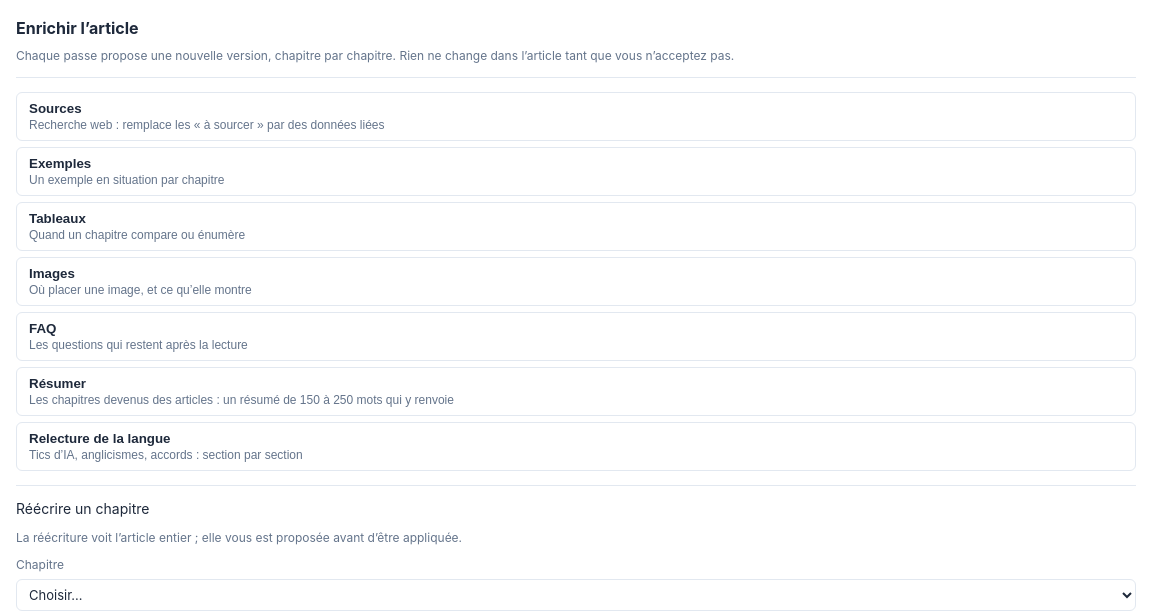
Test: EnrichmentPanel › rien à sourcer : le panneau le dit au lieu d’appeler l’IA
This screenshot has width=1152, height=615.
What coordinates should you click on to do the following:
click the button with test id "enrich-pass-sources"
I would click on:
 (55, 108)
Its box is [16, 92, 1136, 141].
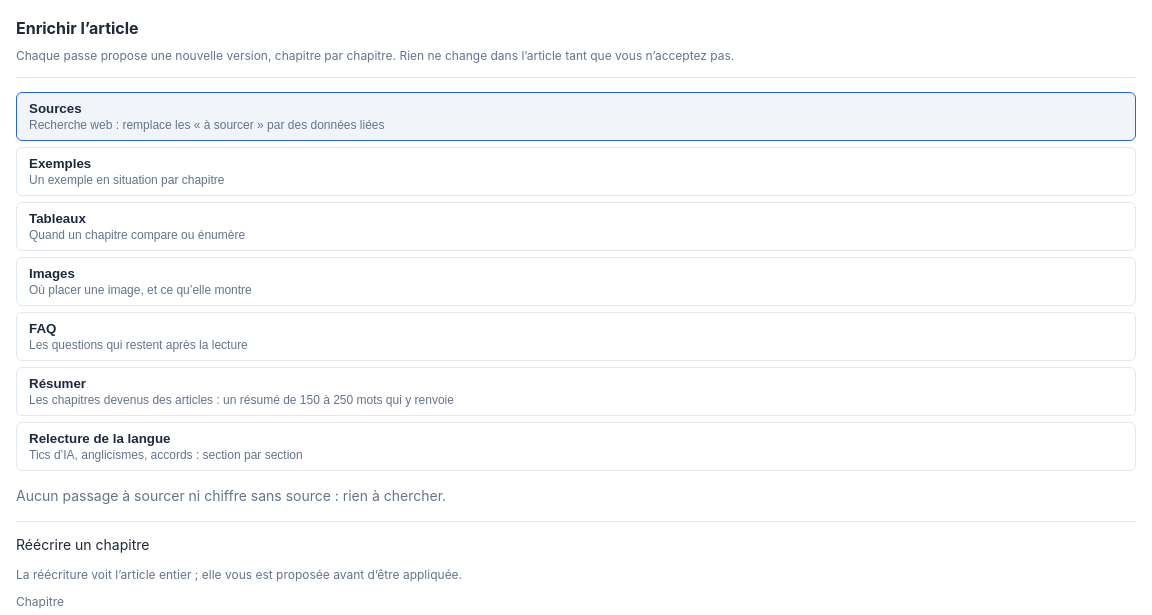
Check: the text with test id "enrich-empty" shows "rien à chercher", box [16, 487, 446, 504]
